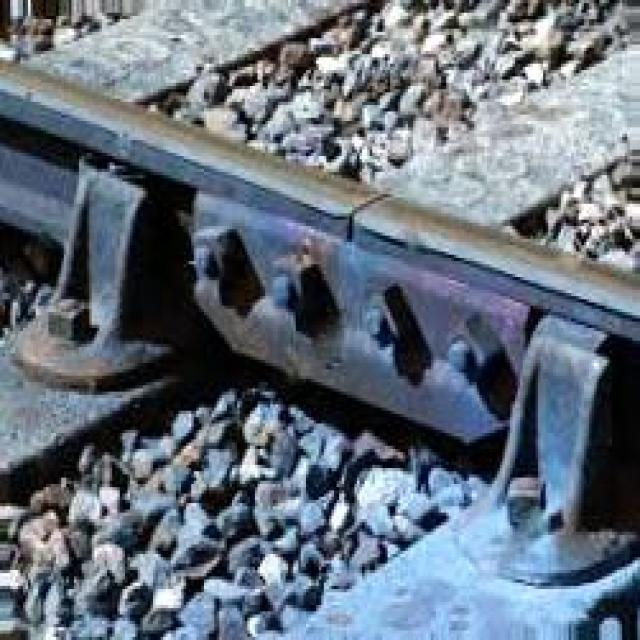Good Joint: (10, 96, 624, 584)
